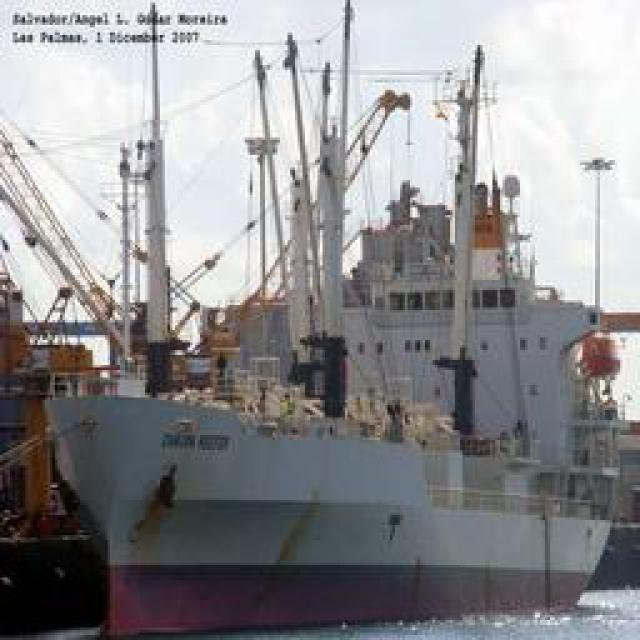Ship: (31, 7, 611, 605)
